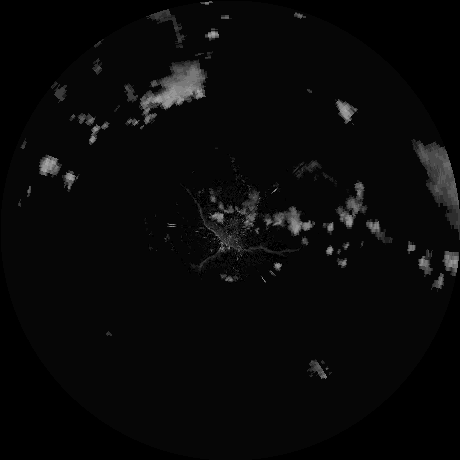frontgust: (195, 202, 285, 255)
